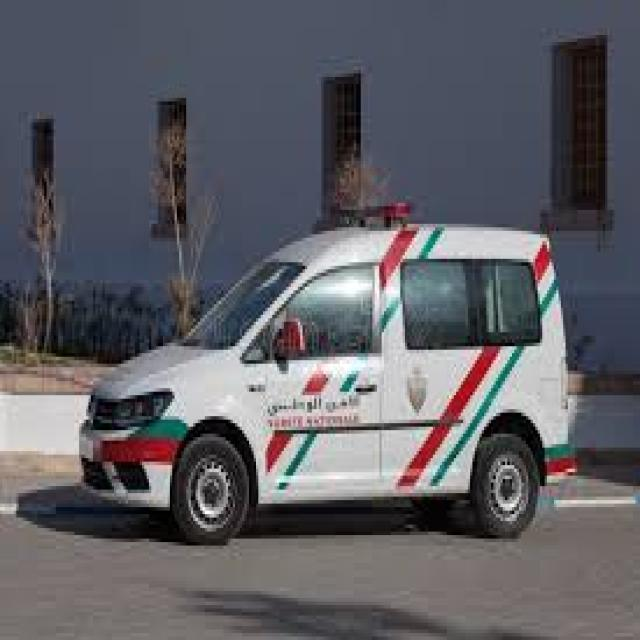Police car: (76, 190, 575, 545)
